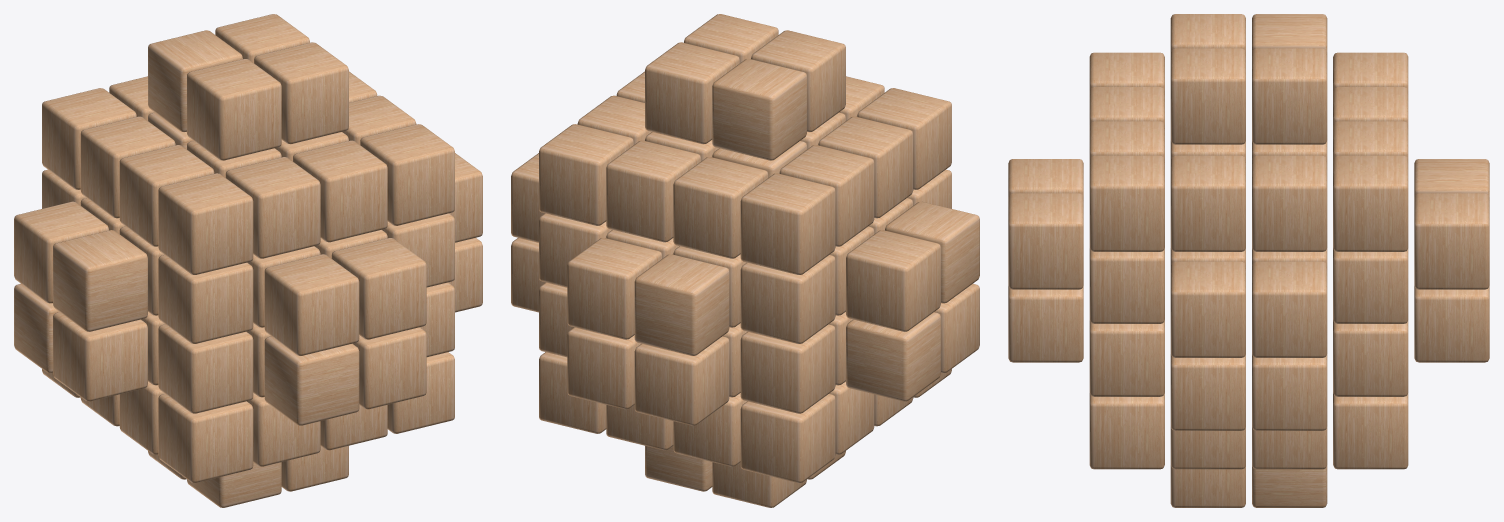
Rendered from level_63.fbx.
3 views of the same model, side by side, from view 1: azimuth 30°, elevation 25°; view 2: azimuth 150°, elevation 25°; view 3: azimuth 270°, elevation 25° (orthographic). The views are drawn at different scales.
Visible parts, largest first — view 1: Cube.061, Cube.072, Cube.101, Cube.015, Cube.057, Cube.028, Cube.024, Cube.011, Cube.032, Cube.069, Cube.062, Cube.070 (+34 smaller); view 2: Cube.173, Cube.180, Cube.109, Cube.047, Cube.169, Cube.156, Cube.152, Cube.043, Cube.160, Cube.177, Cube.174, Cube.178 (+34 smaller); view 3: Cube.097, Cube.099, Cube.102, Cube.110, Cube.124, Cube.132, Cube.062, Cube.098, Cube.174, Cube.193, Cube.058, Cube.170 (+26 smaller).
Boxes of the visible parts, x1,y1,x2,y2 form: Cube.061: [264, 254, 359, 355]; Cube.072: [158, 173, 253, 274]; Cube.101: [187, 59, 281, 160]; Cube.015: [53, 230, 147, 331]; Cube.057: [264, 336, 359, 425]; Cube.028: [158, 324, 253, 413]; Cube.024: [158, 394, 253, 482]; Cube.011: [53, 312, 147, 401]; Cube.032: [158, 255, 253, 343]; Cube.069: [225, 157, 320, 258]; Cube.062: [331, 238, 426, 339]; Cube.070: [293, 140, 387, 242]; Cube.173: [634, 254, 729, 355]; Cube.180: [740, 173, 835, 274]; Cube.109: [712, 59, 806, 160]; Cube.047: [846, 230, 940, 331]; Cube.169: [634, 336, 729, 425]; Cube.156: [740, 324, 835, 413]; Cube.152: [740, 394, 835, 482]; Cube.043: [846, 312, 940, 401]; Cube.160: [740, 255, 835, 343]; Cube.177: [673, 157, 768, 258]; Cube.174: [567, 238, 662, 339]; Cube.178: [606, 140, 700, 242]; Cube.097: [1170, 155, 1245, 251]; Cube.099: [1252, 155, 1327, 251]; Cube.102: [1170, 48, 1245, 144]; Cube.110: [1252, 48, 1327, 144]; Cube.124: [1170, 261, 1245, 357]; Cube.132: [1252, 261, 1327, 357]; Cube.062: [1008, 193, 1083, 289]; Cube.098: [1089, 155, 1164, 251]; Cube.174: [1414, 193, 1489, 289]; Cube.193: [1333, 155, 1408, 251]; Cube.058: [1008, 286, 1083, 362]; Cube.170: [1414, 286, 1489, 362].
Bounding box in the file's own units: 12.41 × 12.31 × 12.45.
